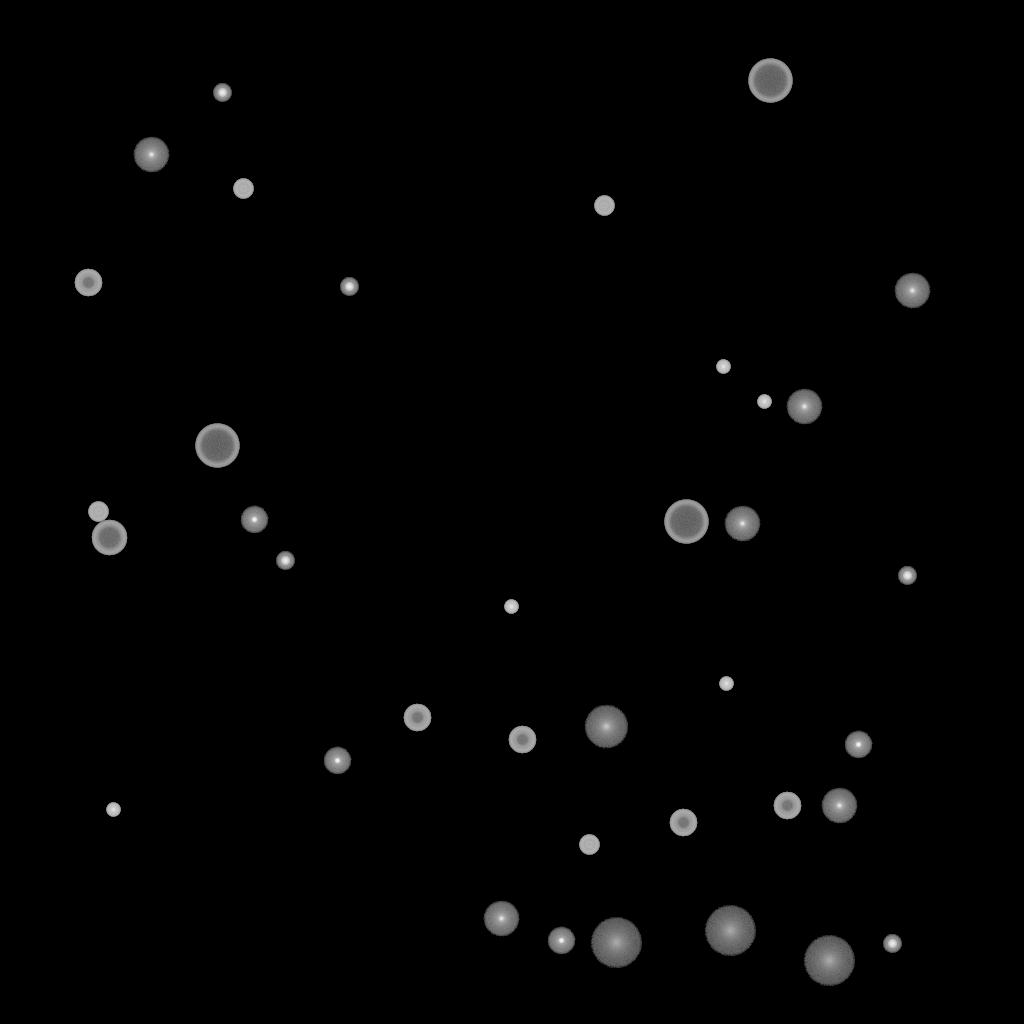depth:-10: (547, 927, 575, 955), (844, 731, 872, 759), (323, 747, 351, 775), (240, 506, 268, 534)
depth:-20: (883, 935, 901, 953), (898, 567, 916, 585), (276, 552, 294, 570), (340, 278, 358, 296), (213, 84, 231, 102)
depth:-30: (106, 803, 120, 817), (716, 360, 730, 374), (757, 395, 771, 409), (504, 600, 518, 614), (719, 677, 733, 691)
depth:-40: (88, 502, 108, 522), (594, 196, 614, 216), (233, 179, 253, 199), (579, 835, 599, 855)
depth:-50: (669, 809, 697, 837), (74, 269, 102, 297), (403, 704, 431, 732), (773, 792, 801, 820), (508, 726, 536, 754)
depth:-60: (91, 520, 127, 556)
depth:-70: (195, 424, 239, 468), (664, 500, 708, 544), (748, 59, 792, 103)
depth:0: (786, 389, 822, 425), (133, 137, 169, 173), (894, 273, 930, 309), (483, 901, 519, 937), (821, 788, 857, 824), (724, 506, 760, 542)
depth:10: (584, 705, 628, 749)
depth:20: (803, 936, 855, 986), (704, 906, 756, 956), (590, 918, 642, 968)
